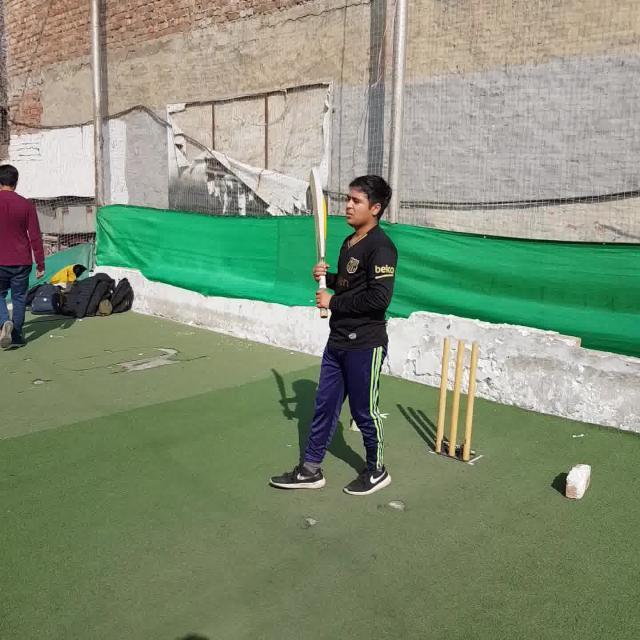bat: (309, 169, 328, 318)
